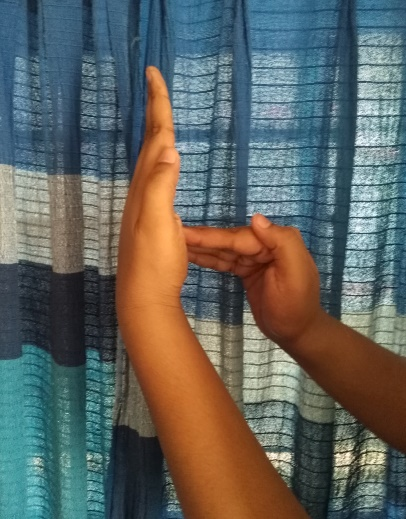ga: (113, 65, 330, 383)
